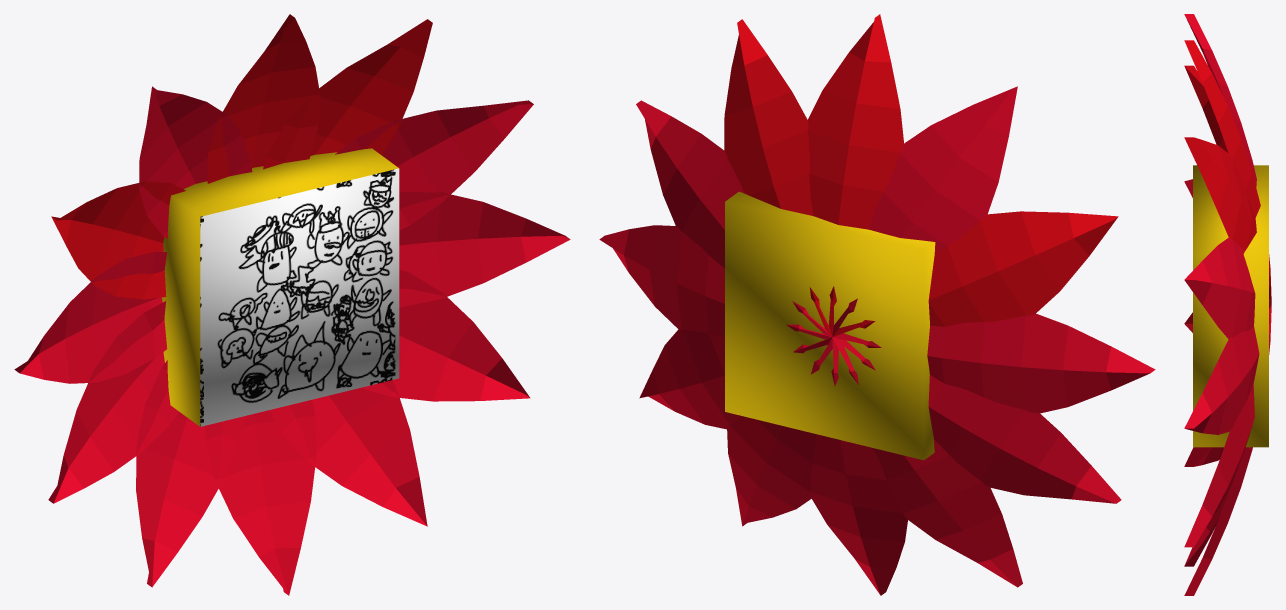
3 renders of one model, left to right at view 1: azimuth 30°, elevation 25°; view 2: azimuth 150°, elevation 25°; view 3: azimuth 270°, elevation 25°, orthographic. The views are drawn at different scales.
Visible parts, largest first — view 1: Petal.001; view 2: Petal.001; view 3: Petal.001.
Boxes of the visible parts, x1,y1,x2,y2 form: Petal.001: (14, 14, 570, 595); Petal.001: (599, 14, 1155, 595); Petal.001: (1184, 14, 1271, 595).
Bounding box in the file's own units: 3 × 3 × 0.45.
Materials: 4 (1 with a texture image).
